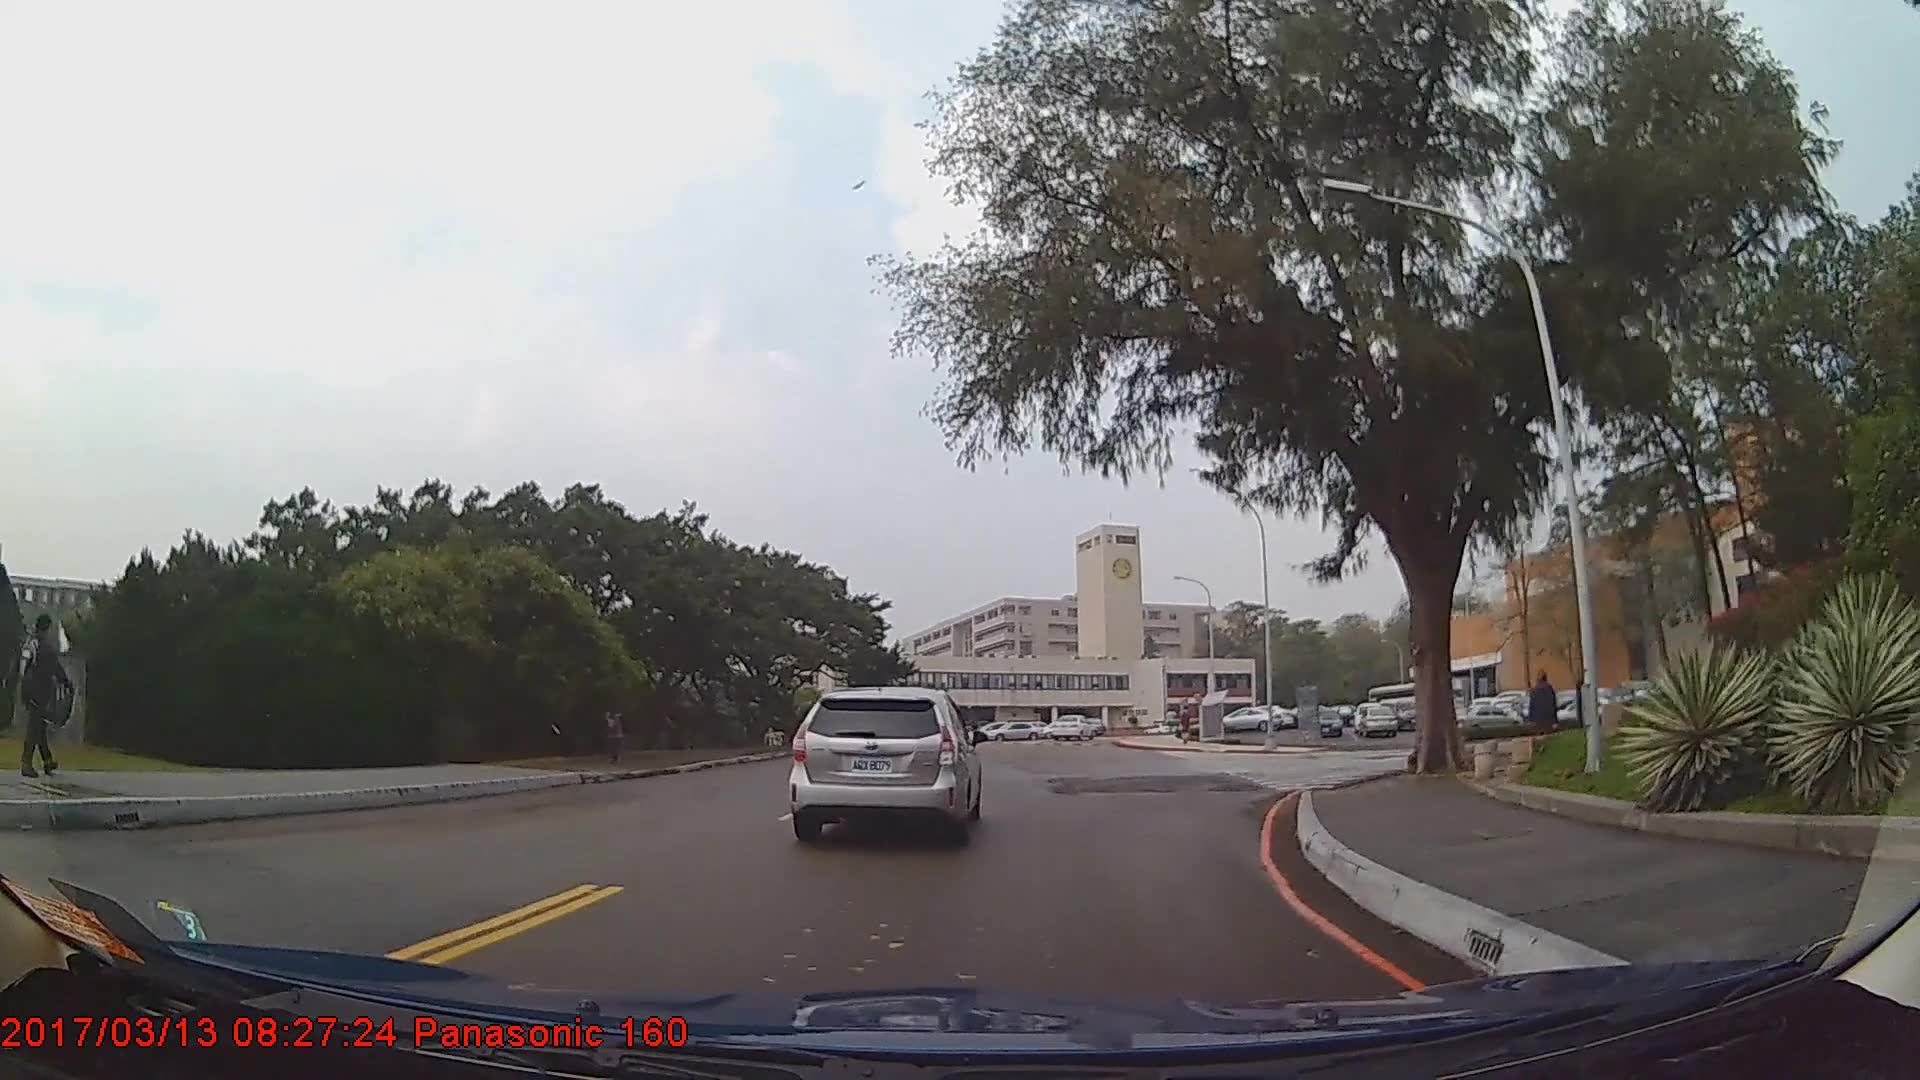pedestrian: (12, 605, 84, 782), (1528, 669, 1562, 762)
vehicle: (788, 682, 979, 844), (1449, 702, 1520, 731), (1219, 703, 1282, 730), (982, 712, 1045, 737), (1357, 702, 1399, 735), (1046, 713, 1095, 740), (1392, 700, 1427, 732), (1312, 706, 1342, 735)
